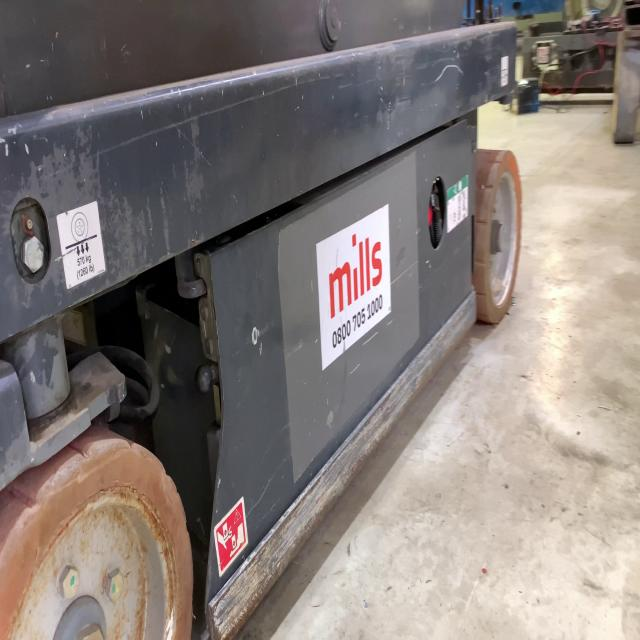Adesivos: (314, 200, 392, 376)
